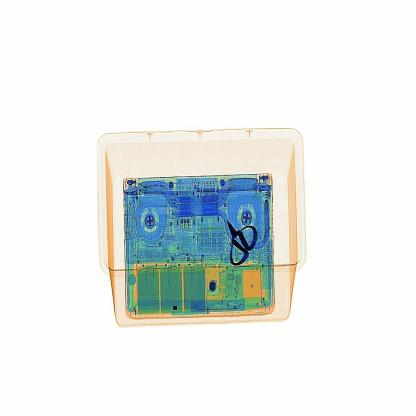gun: (210, 199, 272, 272)
